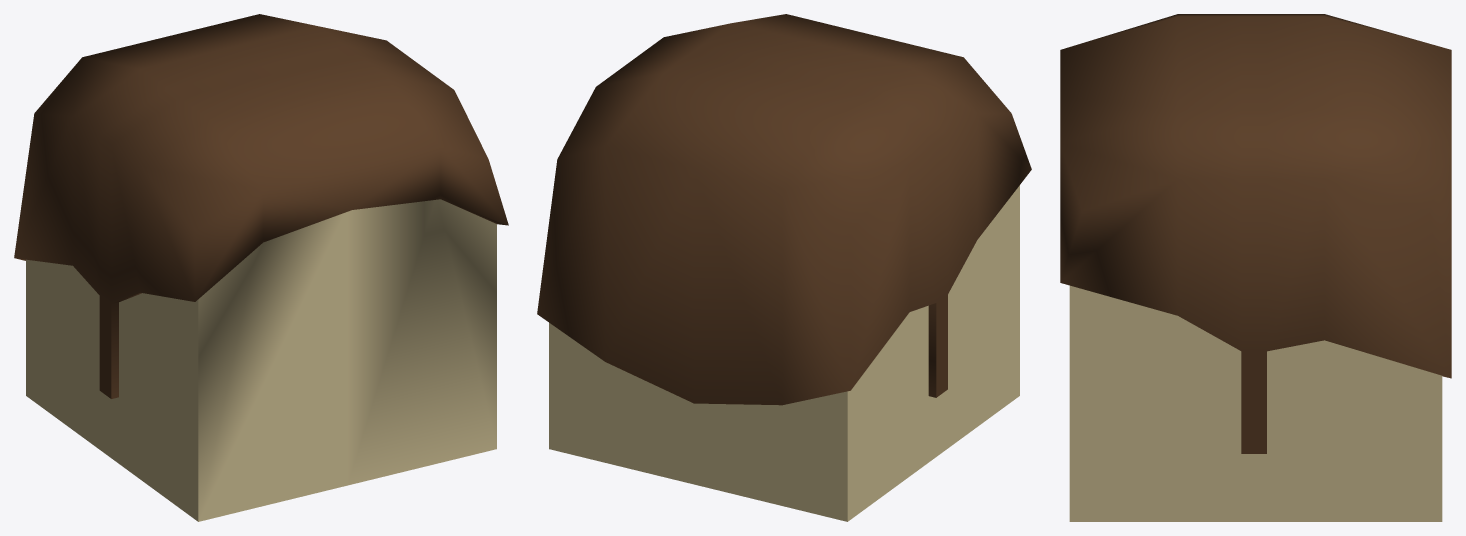
Rendered from peasant.fbx.
The picture shows the model from 3 angles, left to right: view 1: azimuth 30°, elevation 25°; view 2: azimuth 150°, elevation 25°; view 3: azimuth 270°, elevation 25°; orthographic projection. The views are drawn at different scales.
Visible parts, largest first — view 1: Cube; view 2: Cube; view 3: Cube.
Part boxes in pixels (x1,y1,x2,y2): Cube: (14, 14, 508, 521); Cube: (537, 14, 1031, 521); Cube: (1060, 14, 1451, 521).
Size of the model in its own units: 210 by 225 by 210.
